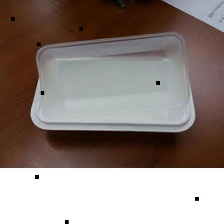plastic_box: (24, 25, 202, 140)
